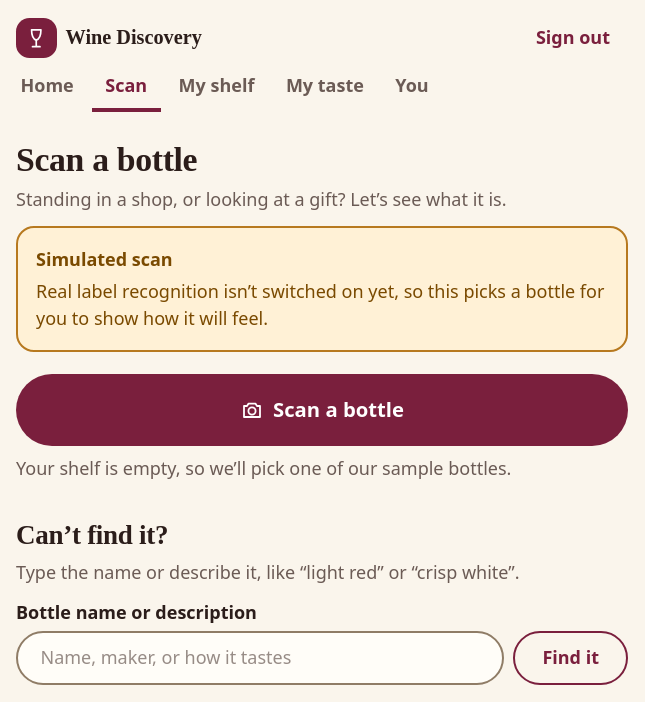
Test: Scan a bottle (simulated) › always works: an empty shelf scans a sample bottle that can be added to the shelf
This screenshot has width=645, height=702.
Expected: the text "Your shelf is empty, so we’ll pick one of our sample bottles." is shown, [16,456,511,480]
Click the button "Scan a bottle": x=322, y=410 [16,374,628,446]
(page scrolled)
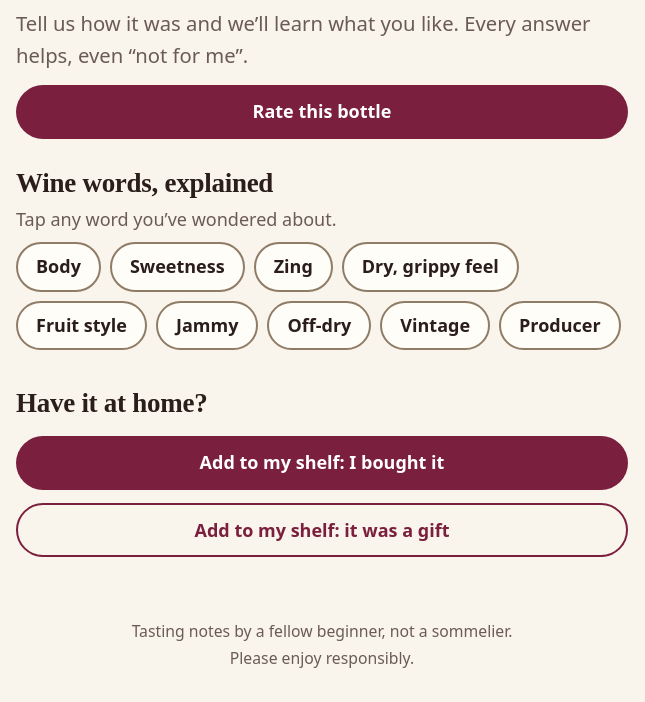
Now the button "Add to my shelf: I bought it" is shown, box [16,436,628,490]
